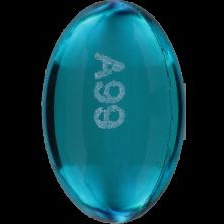50844-293: (0, 0, 224, 224)
